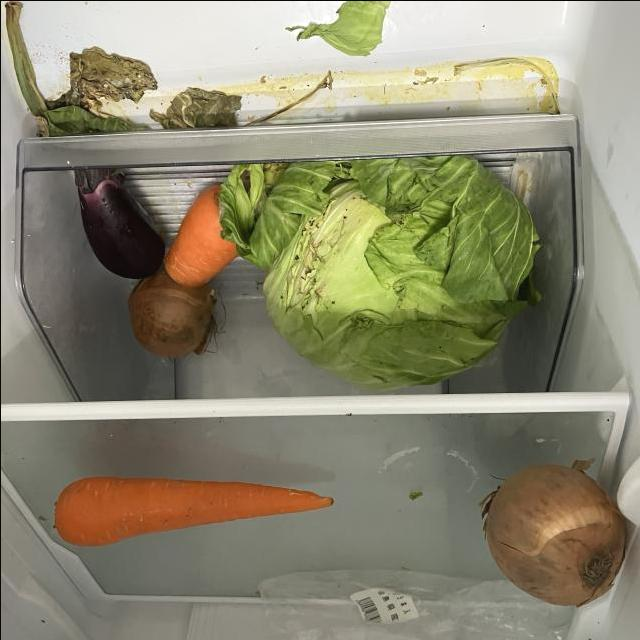cabbage: (215, 141, 545, 391)
carrot: (49, 472, 336, 549), (162, 180, 248, 289)
eggplant: (67, 157, 174, 282)
onion: (476, 456, 630, 609), (123, 271, 223, 361)
